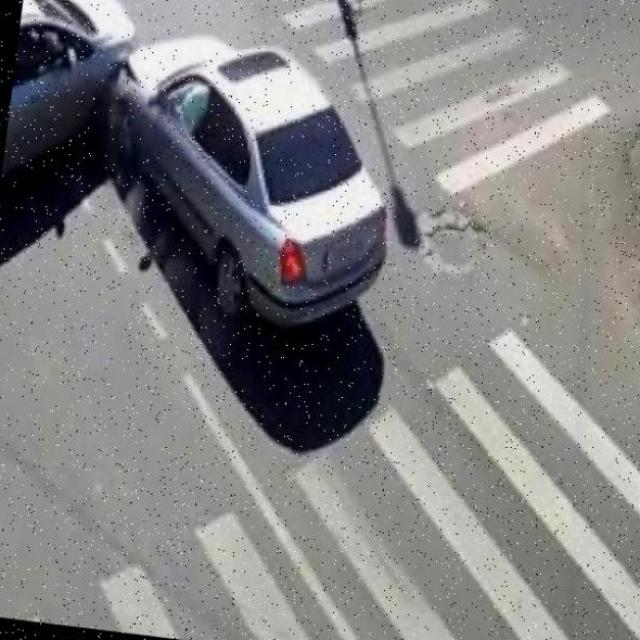accident: (0, 0, 424, 368)
